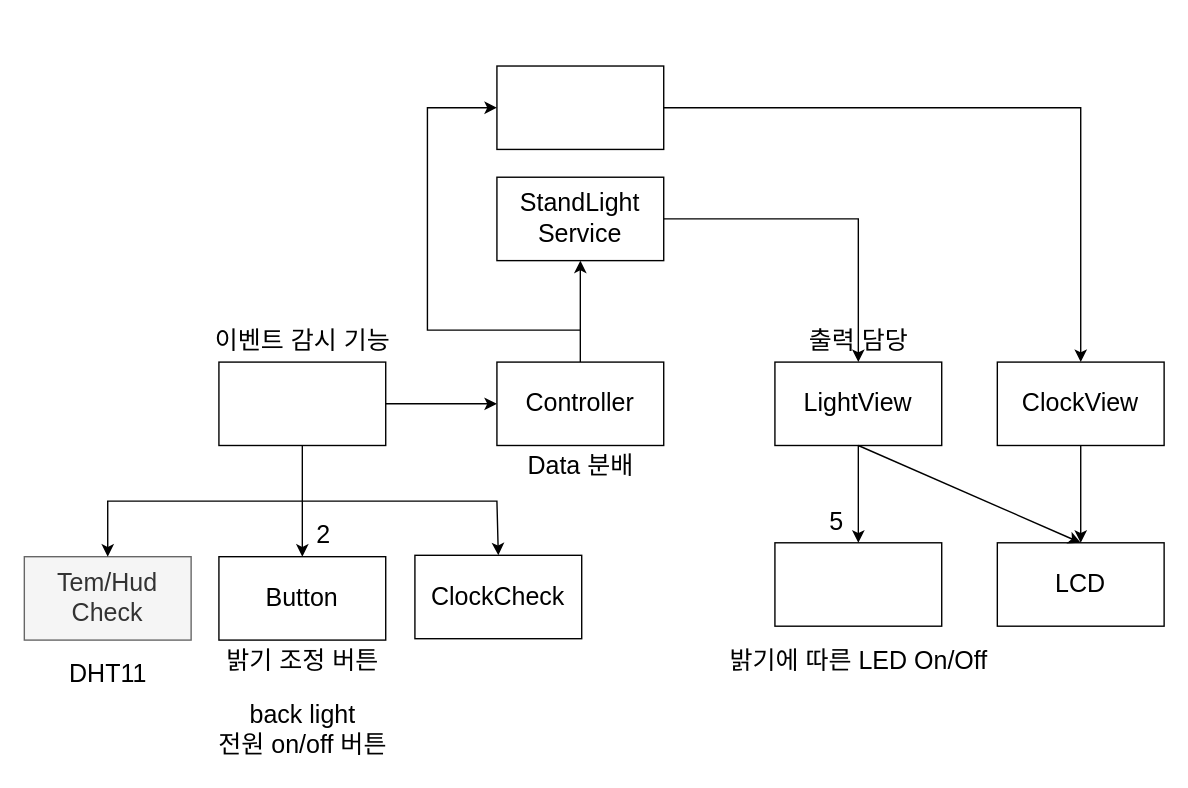
Some shapes in this 1188 by 788 pixel diagram are drawn without their labels. Each missing label, with the centre of its shape:
"Clock Service" goes at (580,107).
"LED" goes at (858,583).
"Listener" goes at (302,403).
"상태머신" goes at (579,44).
